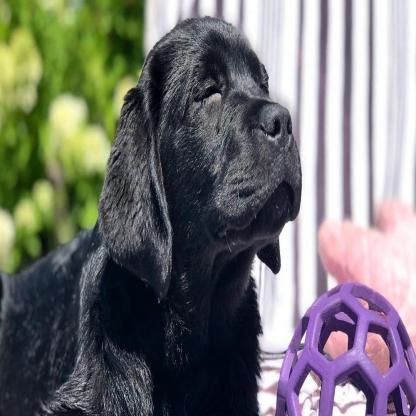Labarador Retriever: (0, 17, 303, 416)
